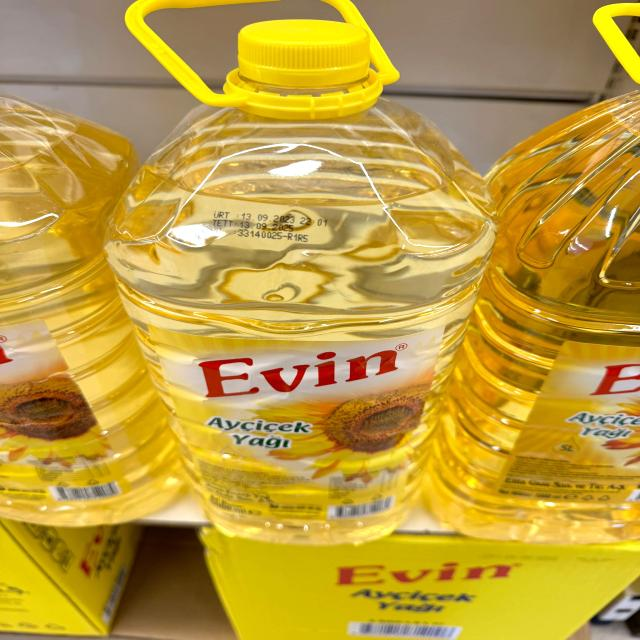olive oil: (134, 62, 476, 536)
